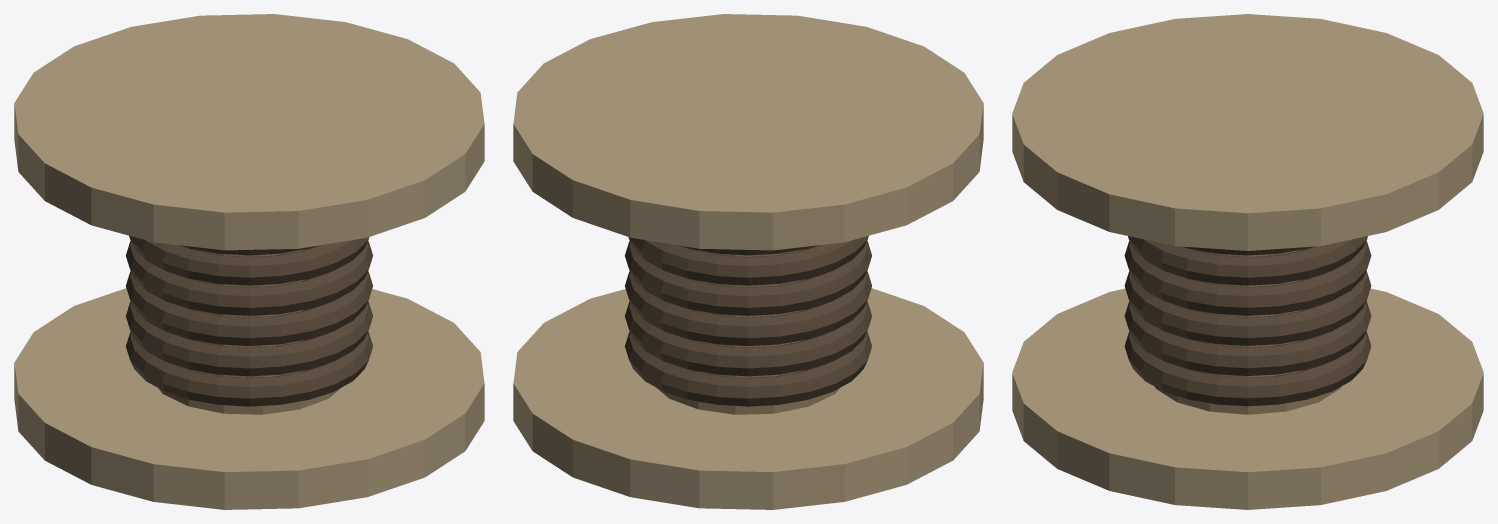
File: Cable_Spool_Barren.glb
The picture shows the model from 3 angles, left to right: view 1: azimuth 30°, elevation 25°; view 2: azimuth 150°, elevation 25°; view 3: azimuth 270°, elevation 25°; orthographic projection.
Parts seen in each view (by area): view 1: Structure; view 2: Structure; view 3: Structure.
Boxes of the visible parts, left/top/right/bottom form: Structure: left=14, top=14, right=484, bottom=509; Structure: left=513, top=14, right=983, bottom=509; Structure: left=1012, top=14, right=1483, bottom=509.
Size of the model in its own units: 1.7 by 1.18 by 1.7.
